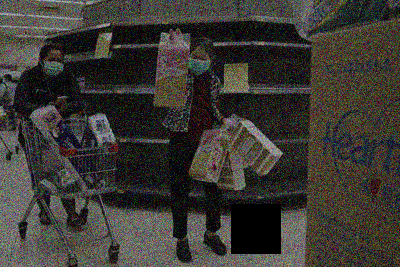with_mask: (188, 51, 211, 76), (41, 54, 64, 78)
